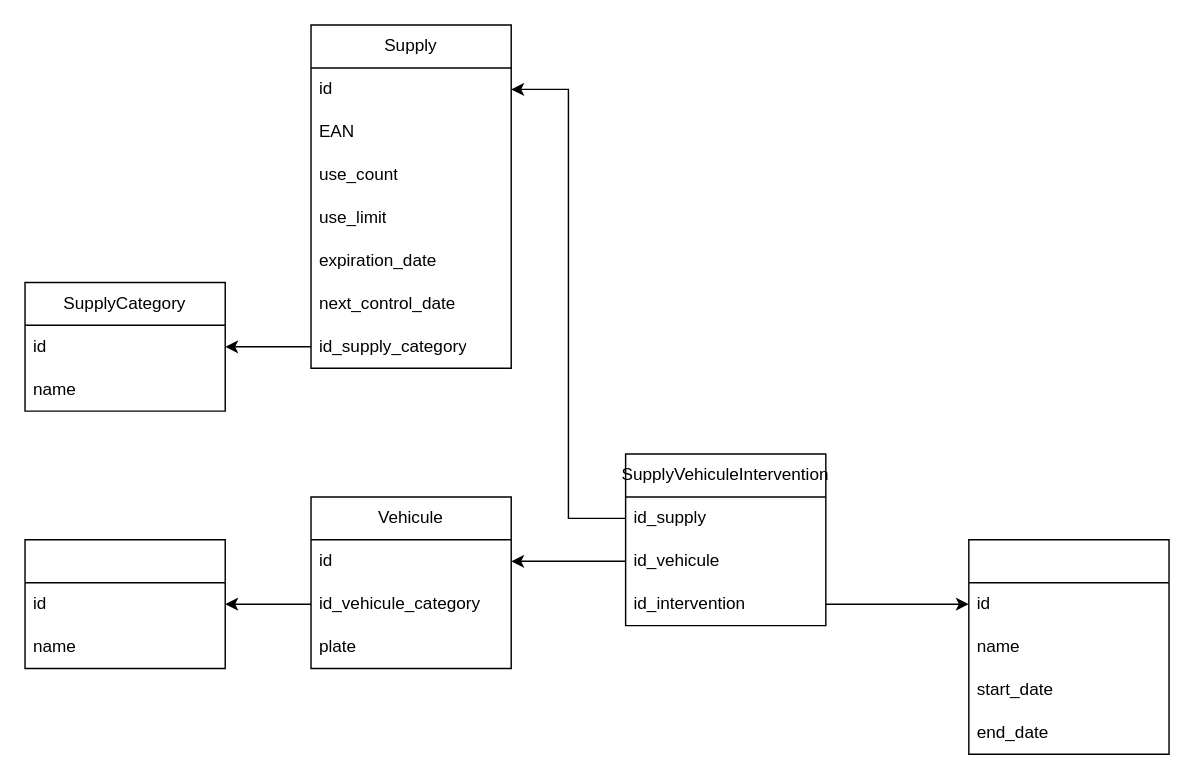
Image size: 1194x779. Some labels were removed from this diagram. The shapes that lost their labels are listed below. From the top down, each one's box as (x1, y1, x2, y2) in pixels, then its label:
(24, 538, 225, 669): VehiculeCategory
(967, 538, 1169, 754): Intervention
